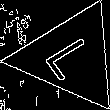L_NE: (38, 30, 103, 84)
